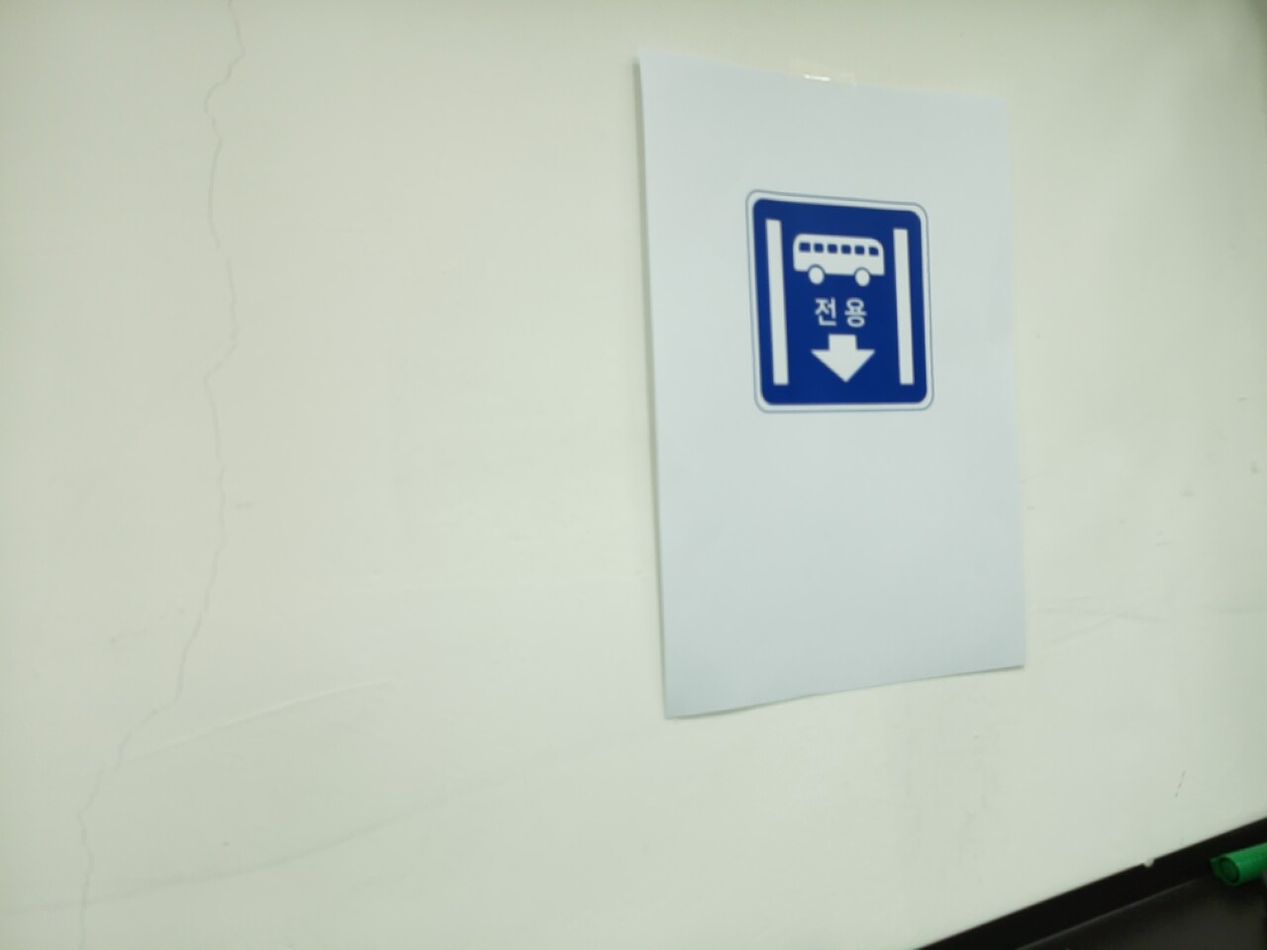bus_only_lane: (745, 190, 934, 414)
